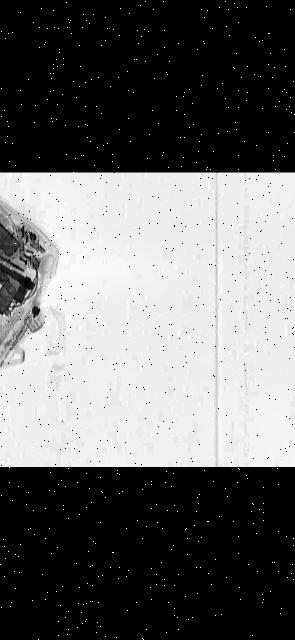Pliers: (0, 248, 27, 289)
Wrench: (0, 231, 48, 292)
